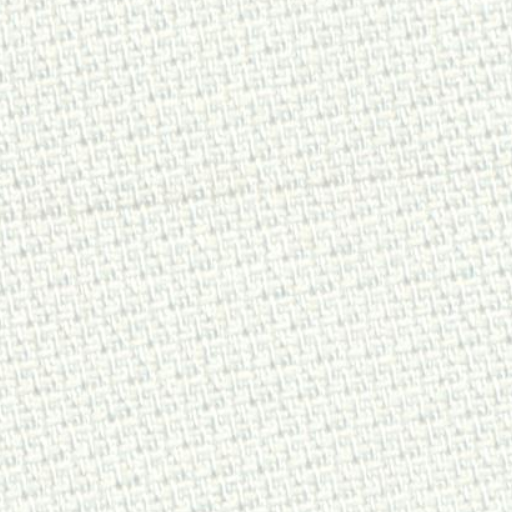WuZi: (81, 154, 492, 226)
